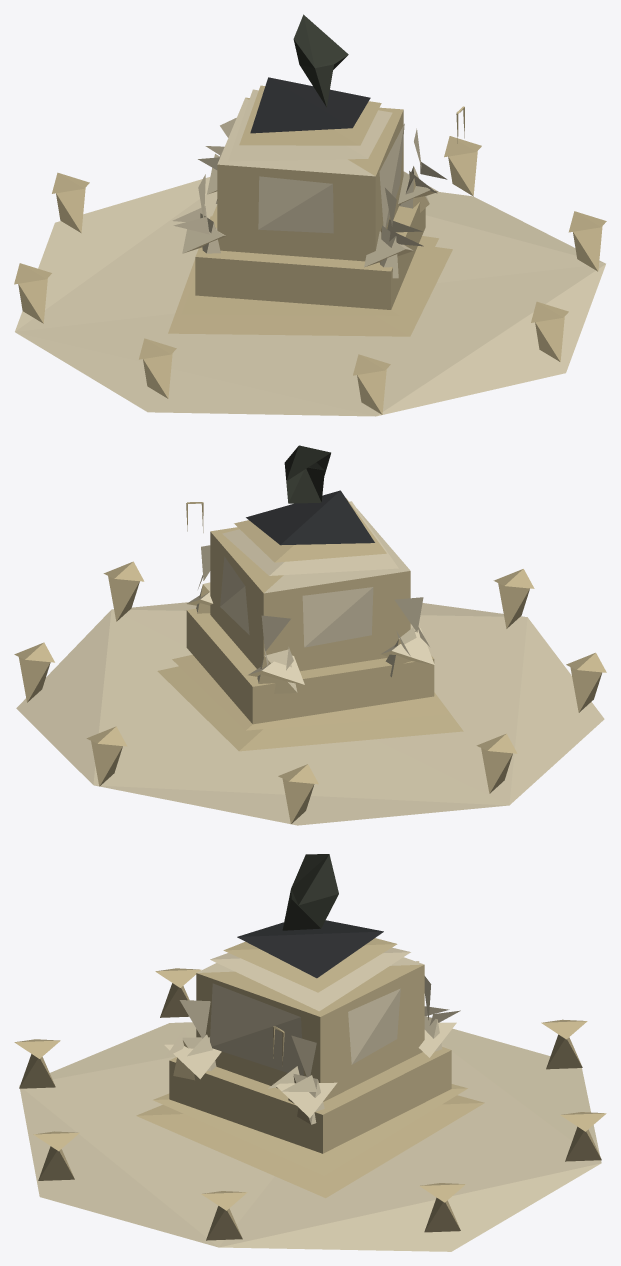
Rendered from vondelmonument.lod2.glb.
The picture shows the model from 3 angles, top to bottom: view 1: azimuth 30°, elevation 25°; view 2: azimuth 150°, elevation 25°; view 3: azimuth 270°, elevation 25°; orthographic projection. The views are drawn at different scales.
Parts seen in each view (by area): view 1: lod2; view 2: lod2; view 3: lod2.
Part boxes in pixels (x1,y1,x2,y2): lod2: [14, 14, 606, 416]; lod2: [14, 445, 606, 825]; lod2: [14, 854, 606, 1251].
Bounding box in the file's own units: 12.43 × 6.58 × 12.43.
